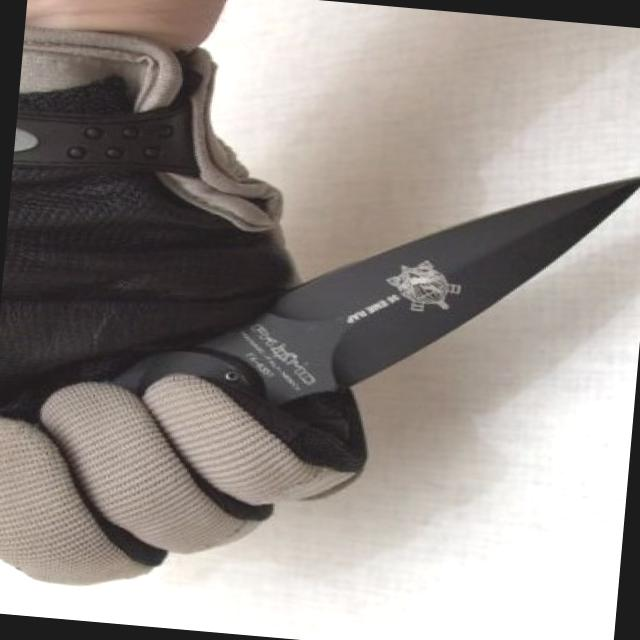knife: (20, 118, 639, 603)
